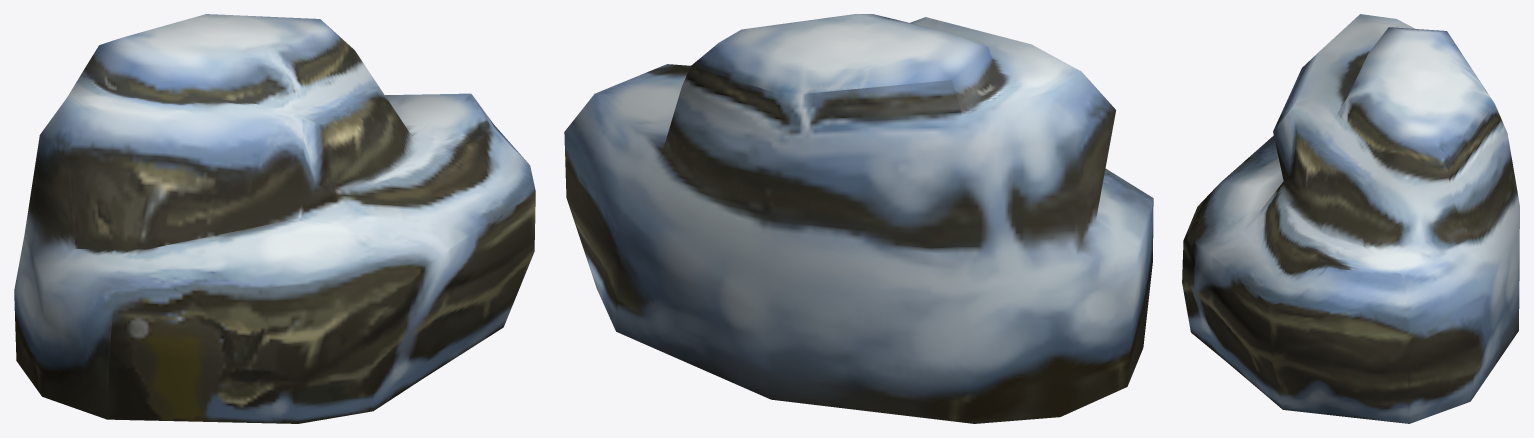
Rendered from ShiTou13.FBX.
The picture shows the model from 3 angles, left to right: view 1: azimuth 30°, elevation 25°; view 2: azimuth 150°, elevation 25°; view 3: azimuth 270°, elevation 25°; orthographic projection. The views are drawn at different scales.
Visible parts, largest first — view 1: ShiTou13; view 2: ShiTou13; view 3: ShiTou13.
Part boxes in pixels (x1,y1,x2,y2): ShiTou13: (14, 14, 535, 423); ShiTou13: (564, 14, 1153, 423); ShiTou13: (1182, 14, 1519, 423).
Size of the model in its own units: 153 by 89.7 by 107.
